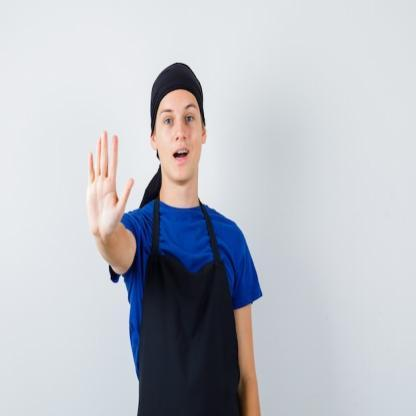stop: (84, 127, 136, 246)
